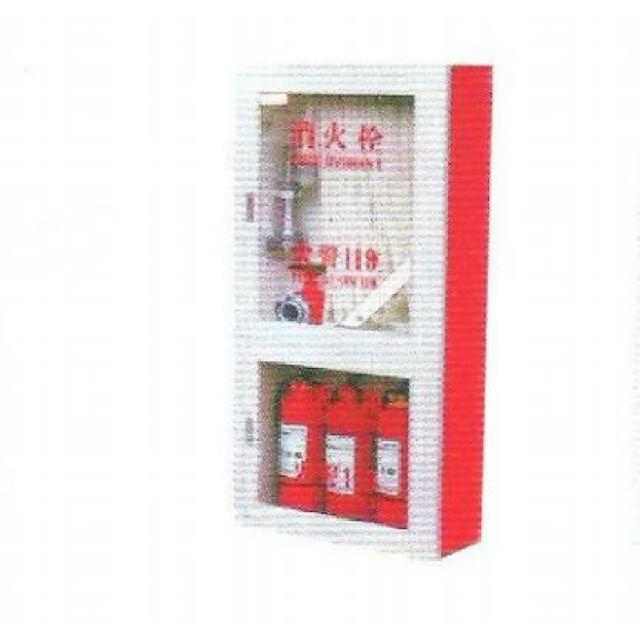firehydrant: (226, 57, 499, 566)
